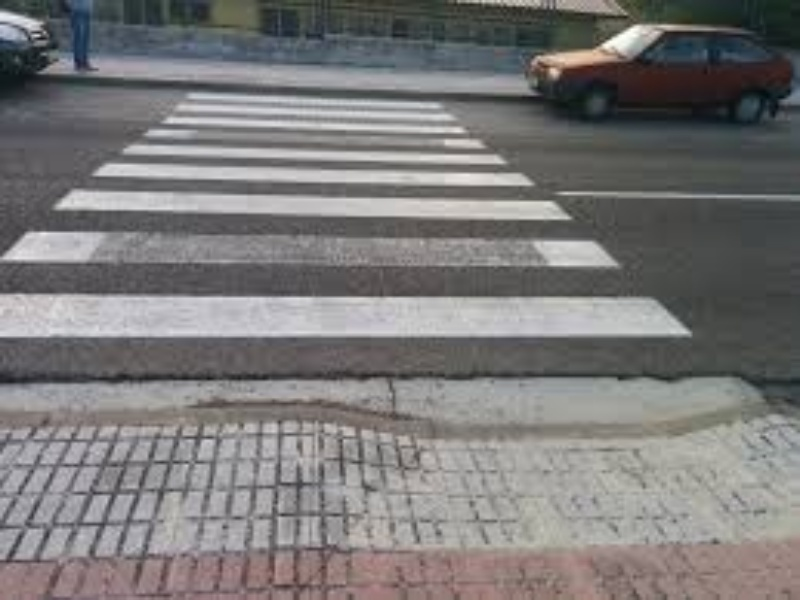zebra cross: (1, 94, 692, 339)
